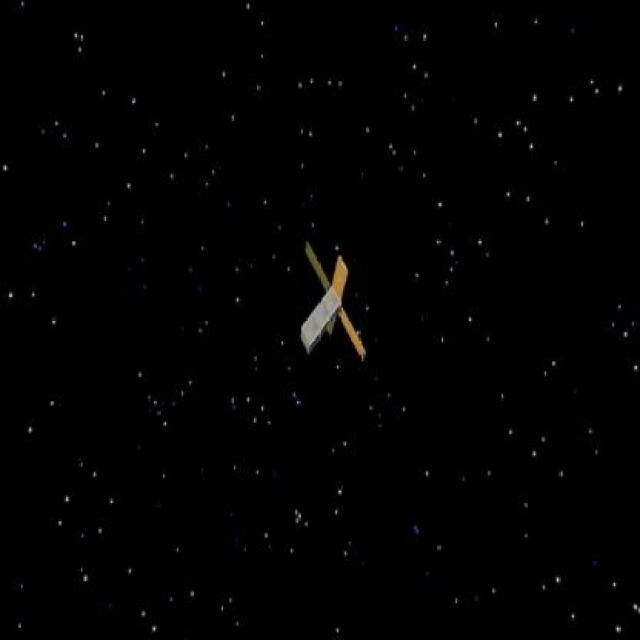medium_debris: (290, 238, 379, 366)
